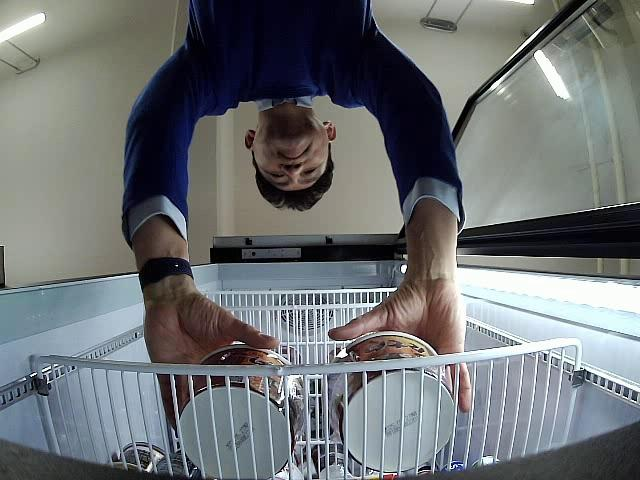00_hand: (325, 261, 471, 412), (144, 292, 277, 424)
05_nuguri_L: (327, 332, 455, 473), (179, 344, 310, 480)
